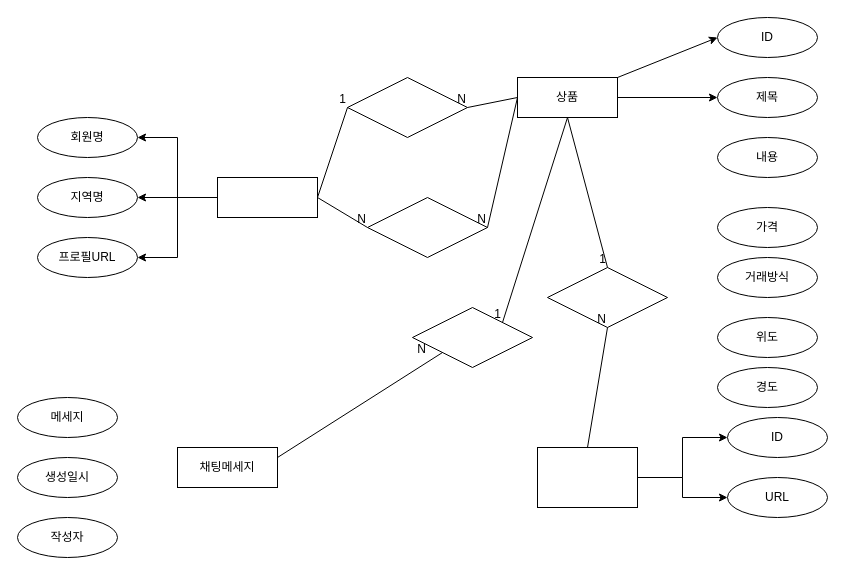
Some shapes in this 845 by 575 pixel diagram are drawn without their labels. The shapes that lost their labels are listed below. From the top down, each one's centre as x and y in pixels, then its label:
At (x=407, y=107): "판매".
At (x=267, y=197): "유저".
At (x=427, y=227): "좋아요".
At (x=607, y=297): "포함".
At (x=472, y=337): "소속".
At (x=587, y=477): "사진".
